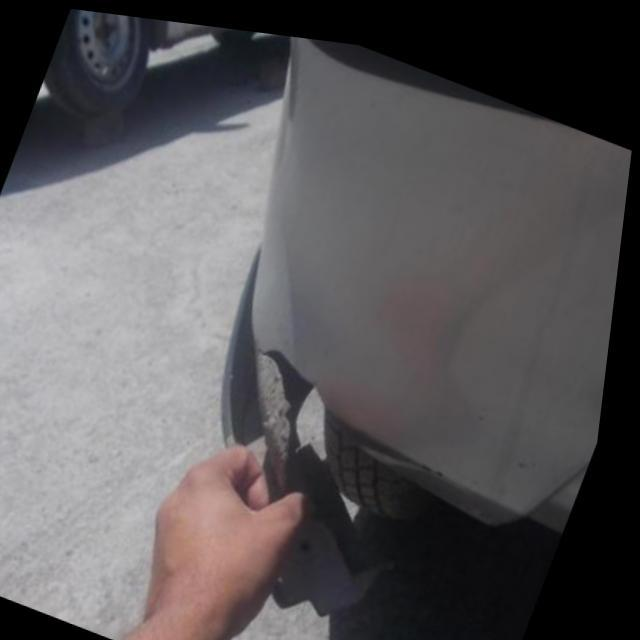dislocated part: (270, 343, 448, 613)
